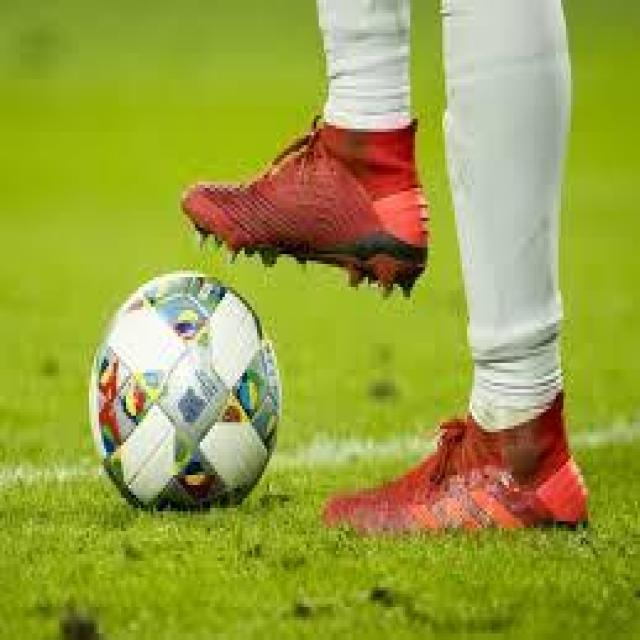Soccer Ball: (89, 270, 282, 514)
